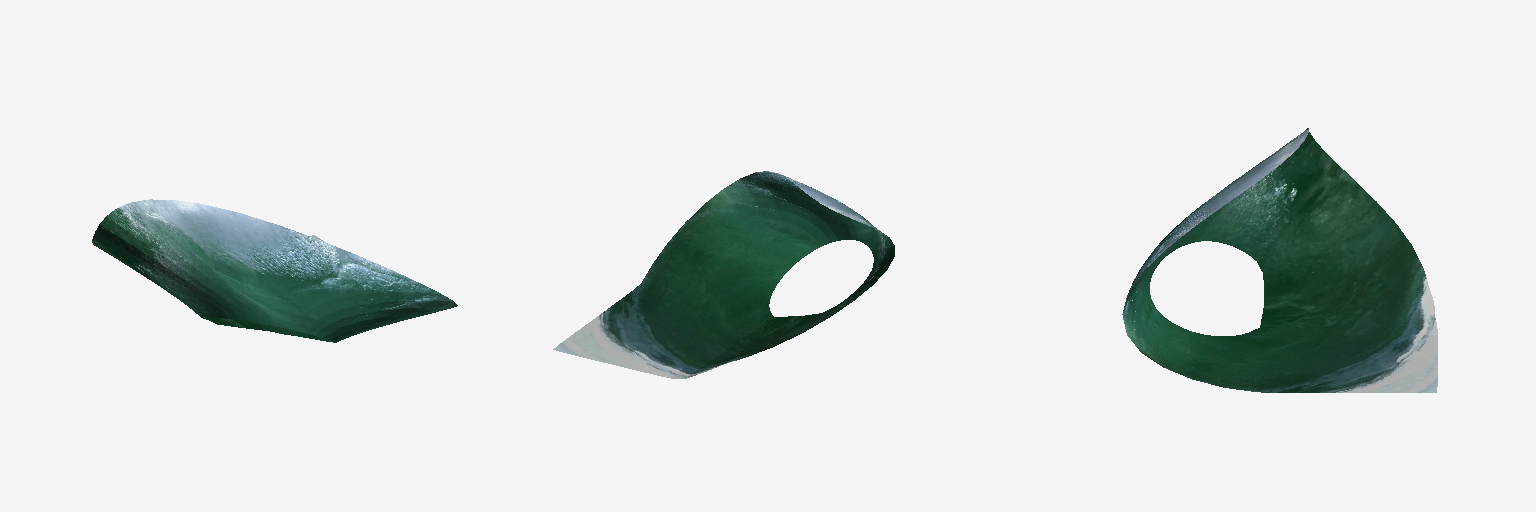
The picture shows the model from 3 angles: view 1: azimuth 30°, elevation 25°; view 2: azimuth 150°, elevation 25°; view 3: azimuth 270°, elevation 25°; orthographic projection.
Visible parts, largest first — view 1: Grid_Grid.001; view 2: Grid_Grid.001; view 3: Grid_Grid.001.
Boxes of the visible parts, <box> form: Grid_Grid.001: <box>92,199,457,342</box>; Grid_Grid.001: <box>553,171,894,378</box>; Grid_Grid.001: <box>1122,128,1437,392</box>.
Size of the model in its own units: 13.84 by 6.47 by 13.15.
1 materials, 1 textured.